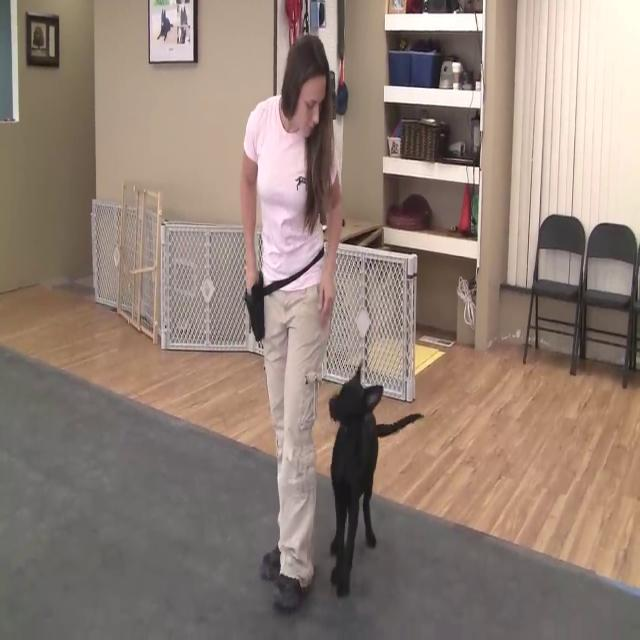Unleashed_Dog: (283, 358, 424, 614)
